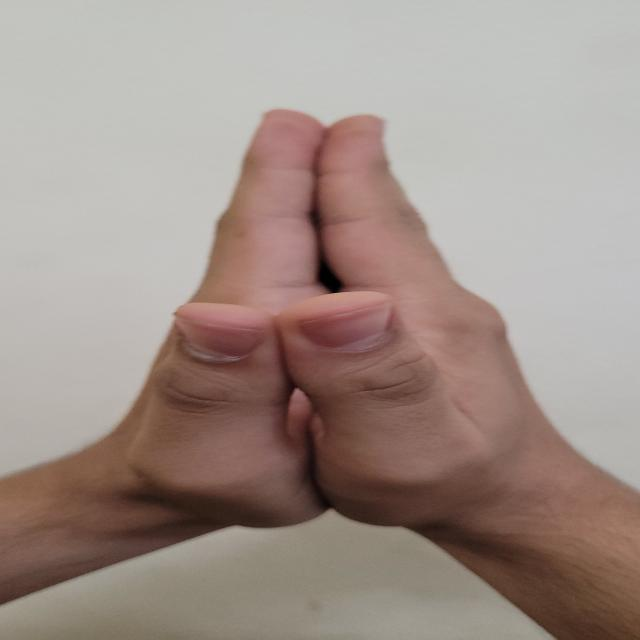Thank You: (94, 89, 572, 584)
